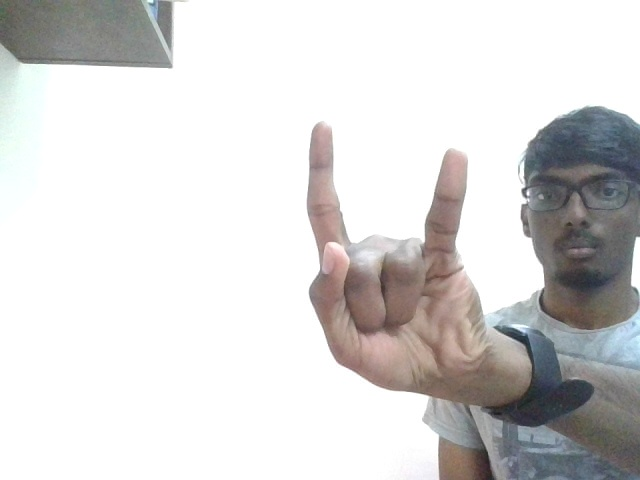I Love You: (305, 121, 469, 391)
